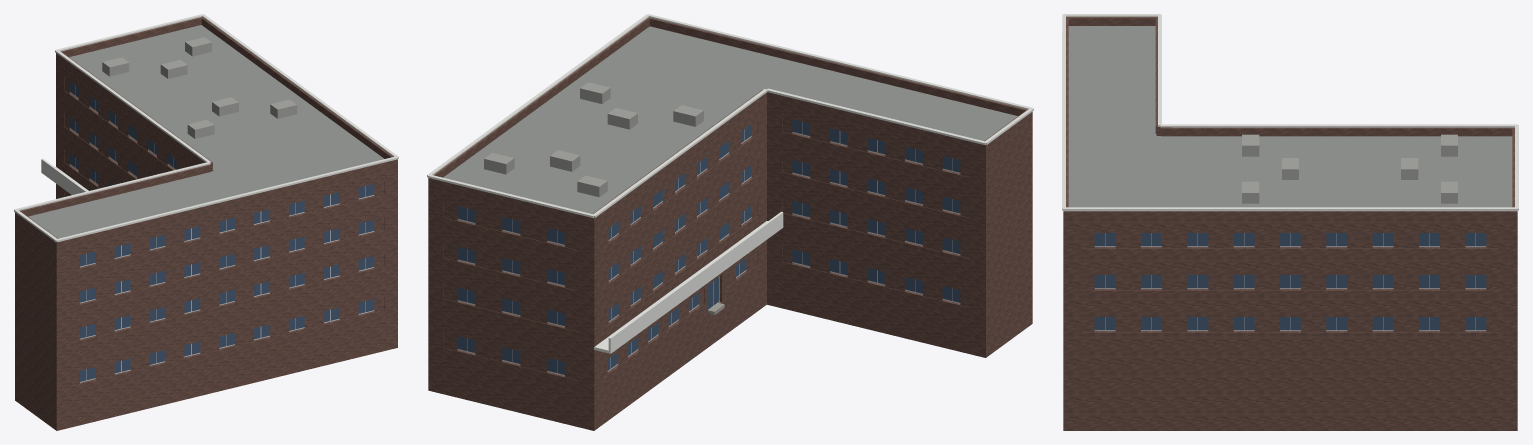
3 renders of one model, left to right at view 1: azimuth 30°, elevation 25°; view 2: azimuth 150°, elevation 25°; view 3: azimuth 270°, elevation 25°, orthographic. The views are drawn at different scales.
Visible parts, largest first — view 1: osm759074760__brick-wall, osm759074760__roof, osm759074760__glass, osm759074760__brick-coping, osm759074760__ac, osm759074760__frame, osm759074760__white-balcony-wall; view 2: osm759074760__brick-wall, osm759074760__roof, osm759074760__glass, osm759074760__brick-coping, osm759074760__white-balcony-wall, osm759074760__ac, osm759074760__frame; view 3: osm759074760__brick-wall, osm759074760__roof, osm759074760__glass, osm759074760__brick-coping, osm759074760__ac, osm759074760__frame.
Boxes of the visible parts, <box> form: osm759074760__brick-wall: <box>15,17,397,430</box>; osm759074760__roof: <box>28,25,384,238</box>; osm759074760__glass: <box>69,81,374,381</box>; osm759074760__brick-coping: <box>14,14,398,242</box>; osm759074760__ac: <box>102,37,297,138</box>; osm759074760__frame: <box>70,86,374,382</box>; osm759074760__white-balcony-wall: <box>41,158,88,194</box>; osm759074760__brick-wall: <box>428,17,1032,430</box>; osm759074760__roof: <box>443,26,1017,213</box>; osm759074760__glass: <box>457,119,960,374</box>; osm759074760__brick-coping: <box>427,14,1033,218</box>; osm759074760__white-balcony-wall: <box>594,211,783,353</box>; osm759074760__ac: <box>484,82,703,197</box>; osm759074760__frame: <box>457,122,960,375</box>; osm759074760__brick-wall: <box>1063,17,1517,430</box>; osm759074760__roof: <box>1068,26,1512,207</box>; osm759074760__glass: <box>1094,233,1486,330</box>; osm759074760__brick-coping: <box>1062,14,1518,211</box>; osm759074760__ac: <box>1242,134,1457,203</box>; osm759074760__frame: <box>1094,233,1486,330</box>.
Size of the model in its own units: 34.86 by 18.7 by 34.48.
10 materials, 1 textured.
